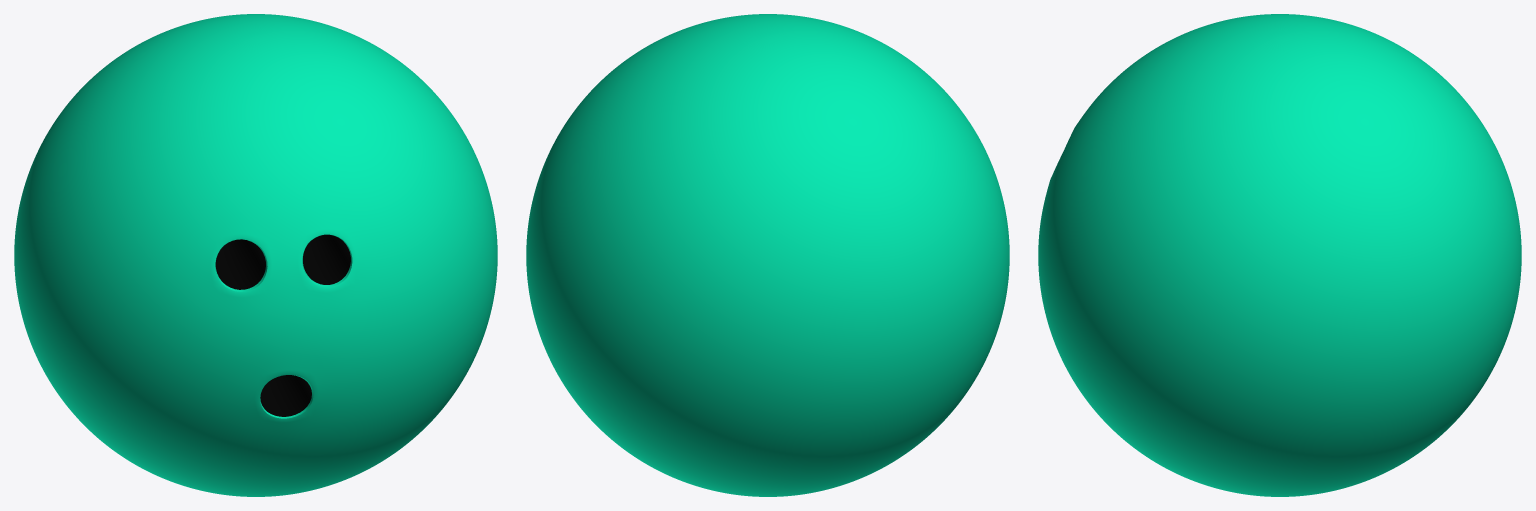
File: BowlingBall.fbx
The picture shows the model from 3 angles, left to right: view 1: azimuth 30°, elevation 25°; view 2: azimuth 150°, elevation 25°; view 3: azimuth 270°, elevation 25°; orthographic projection.
Parts seen in each view (by area): view 1: bowling_ball, bowling_ball.001; view 2: bowling_ball; view 3: bowling_ball.
Part boxes in pixels (box(x1,y1,x2,y2)): bowling_ball: box(14, 14, 497, 496); bowling_ball.001: box(215, 234, 350, 416); bowling_ball: box(526, 14, 1009, 496); bowling_ball: box(1038, 14, 1521, 496).
Size of the model in its own units: 21.6 by 21.6 by 21.6.
